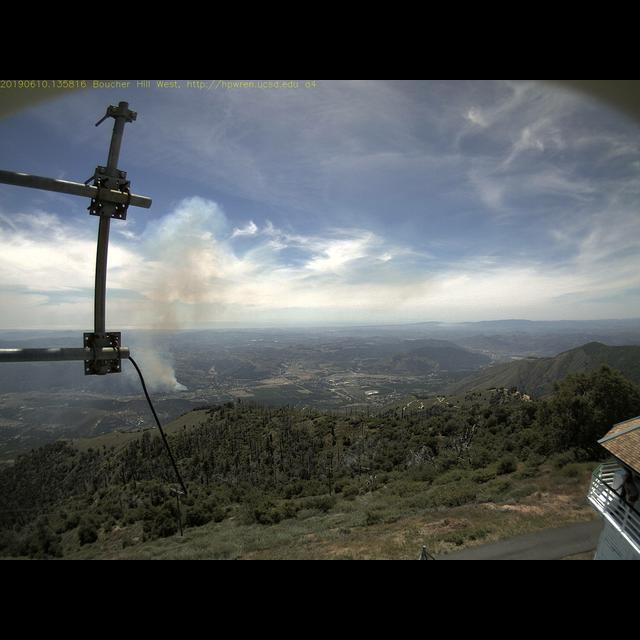Smoke: (117, 243, 200, 395)
